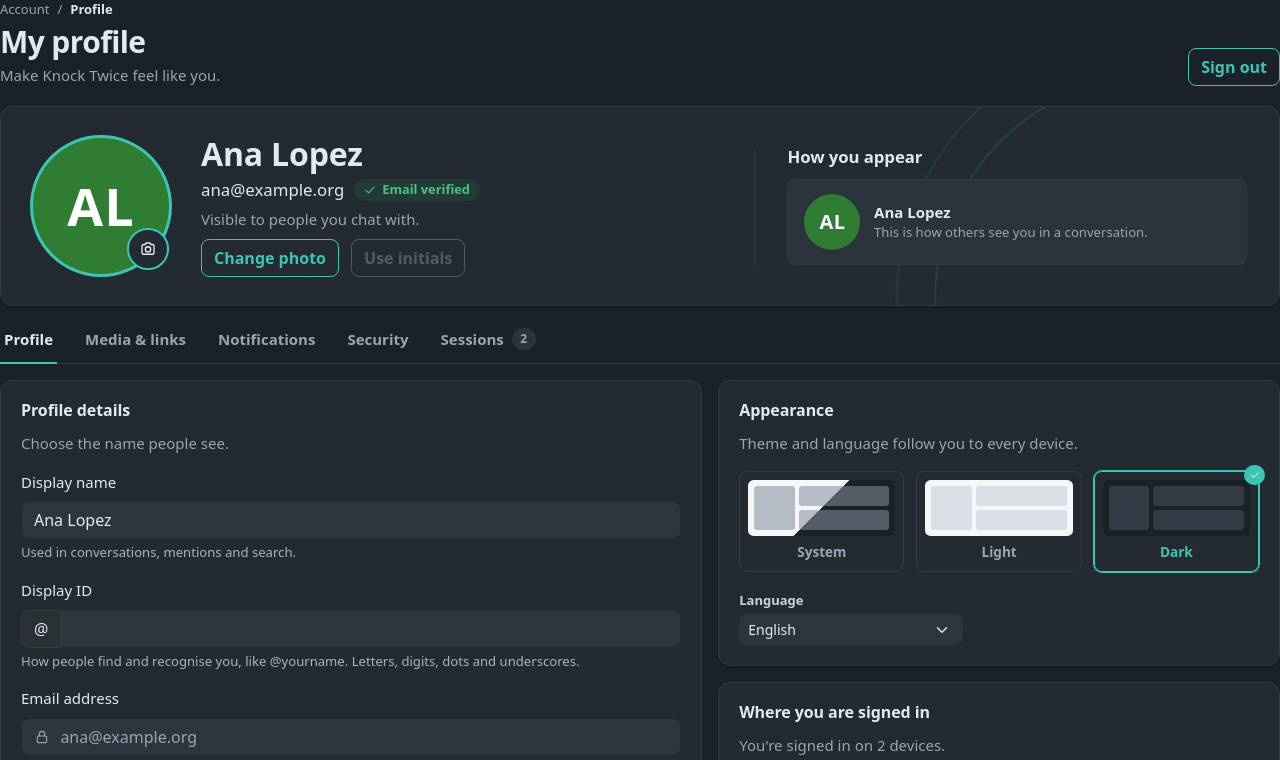
Test case: My profile (redesign 2026-11) › picks up a sign-in from another browser when you come back or open Sessions
Click the tab "Sessions 2" at (488, 341), box [436, 318, 540, 364]
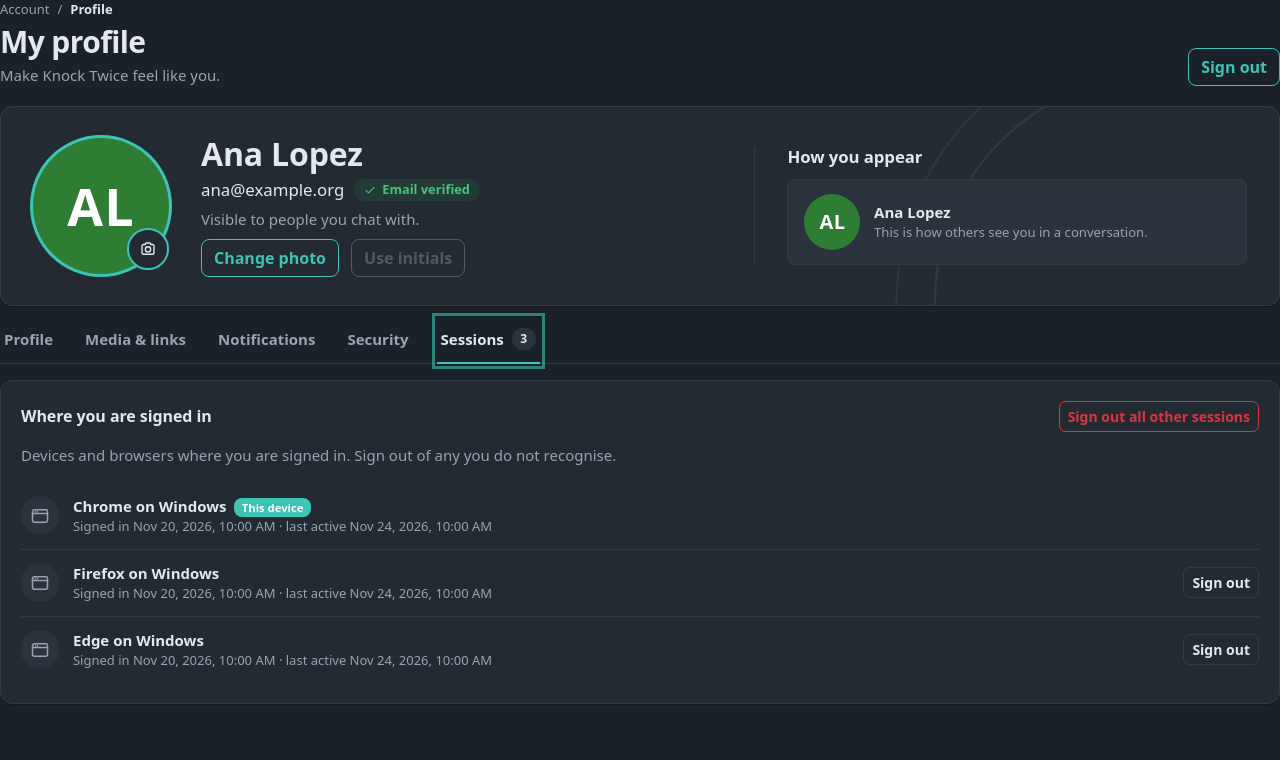
Now the text "Edge on Windows" is shown, box [73, 630, 204, 650]
Now the text "Firefox on Windows" is shown, box [73, 563, 219, 583]
